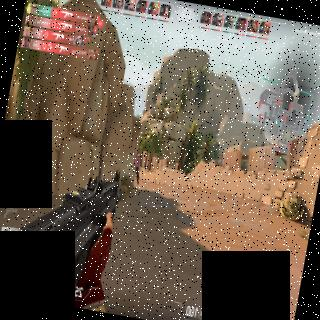ENEMY-BODY: (132, 153, 144, 185)
ENEMY-HEAD: (136, 154, 140, 160)
